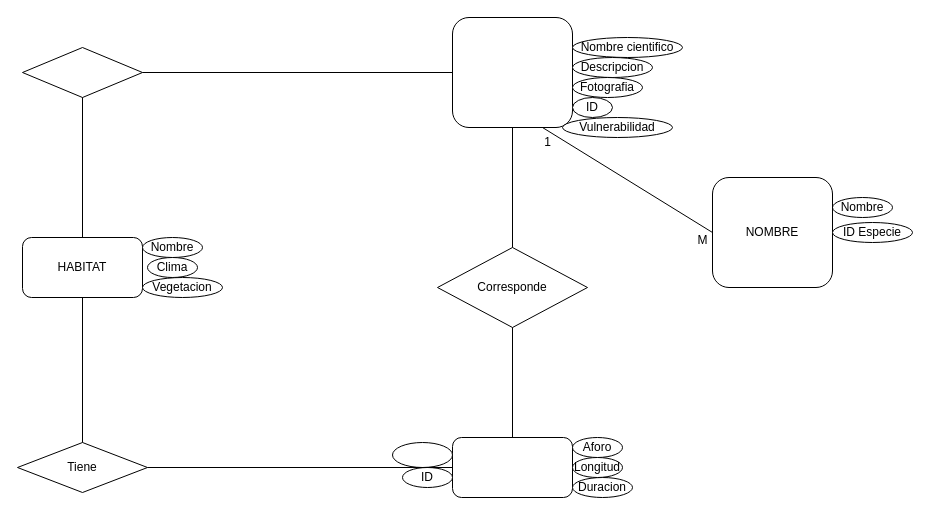
Some shapes in this 930 by 515 pixel diagram are drawn without their labels. Each missing label, with the centre of its shape:
"Codigo" belongs at point (422, 455).
"ESPECIE" belongs at point (512, 72).
"Pertenece" belongs at point (82, 72).
"VISITA" belongs at point (512, 467).
